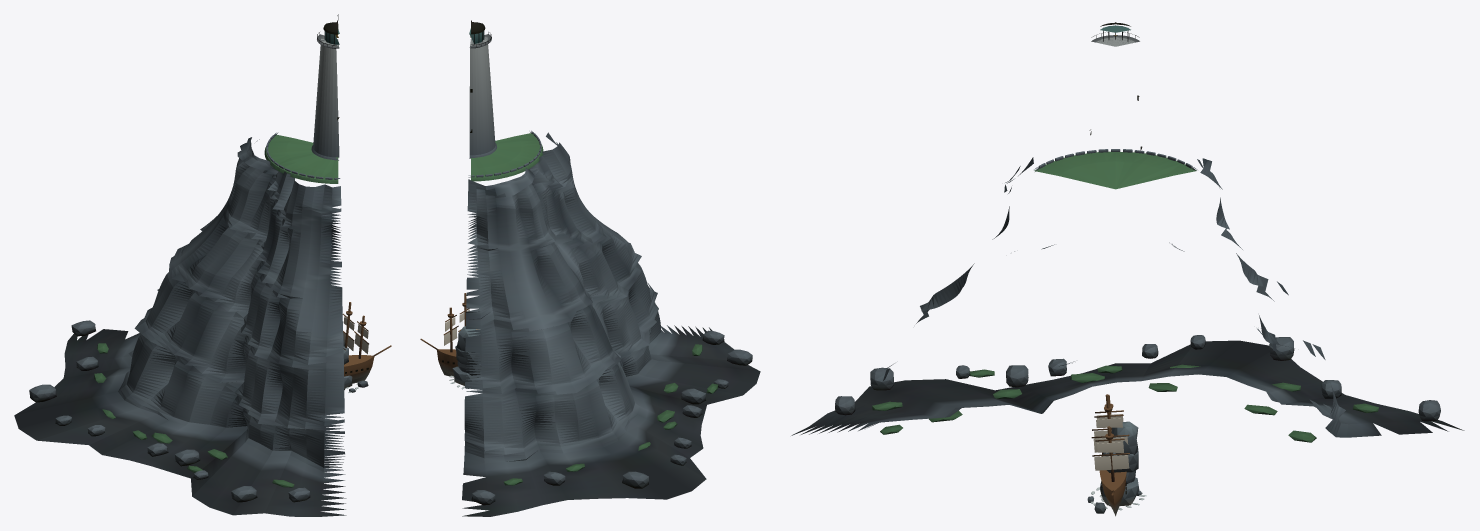
File: coast-s2-DpDWis2i.glb
The picture shows the model from 3 angles, left to right: view 1: azimuth 30°, elevation 25°; view 2: azimuth 150°, elevation 25°; view 3: azimuth 270°, elevation 25°; orthographic projection. The views are drawn at different scales.
Visible parts, largest first — view 1: sc_landmark_1, sc_galleon_up; view 2: sc_landmark_1, sc_stack_1, sc_galleon_up; view 3: sc_landmark_1, sc_galleon_up, sc_stack_1.
Part boxes in pixels (x1,y1,x2,y2): sc_landmark_1: [14, 14, 346, 516]; sc_galleon_up: [342, 302, 391, 383]; sc_landmark_1: [462, 20, 760, 516]; sc_stack_1: [449, 326, 481, 389]; sc_galleon_up: [420, 293, 479, 377]; sc_landmark_1: [791, 22, 1464, 442]; sc_galleon_up: [1091, 394, 1129, 516]; sc_stack_1: [1087, 421, 1146, 513].
Bounding box in the file's own units: 283 × 320 × 393.
